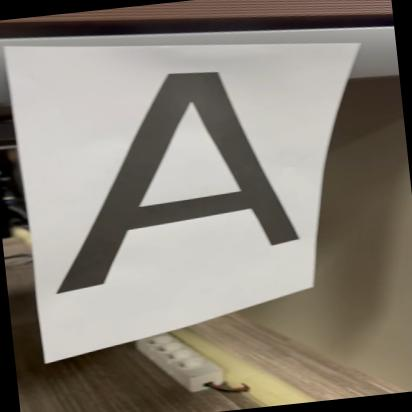seat: (26, 53, 323, 307)
